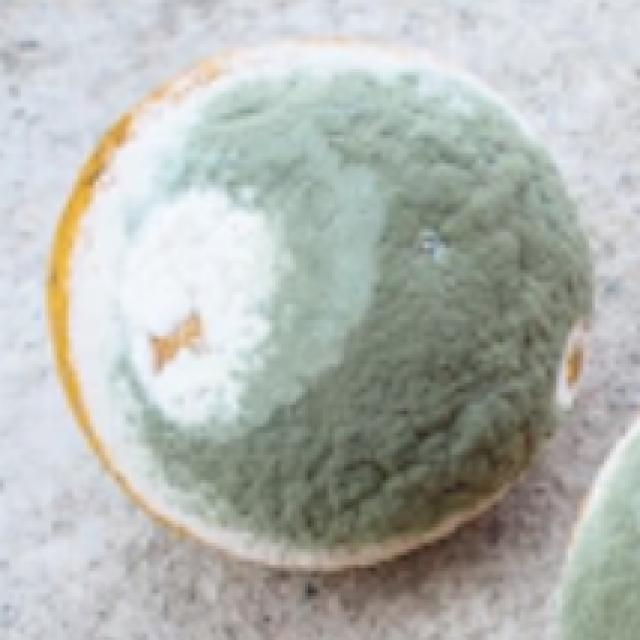rotten-orange: (47, 42, 590, 568)
